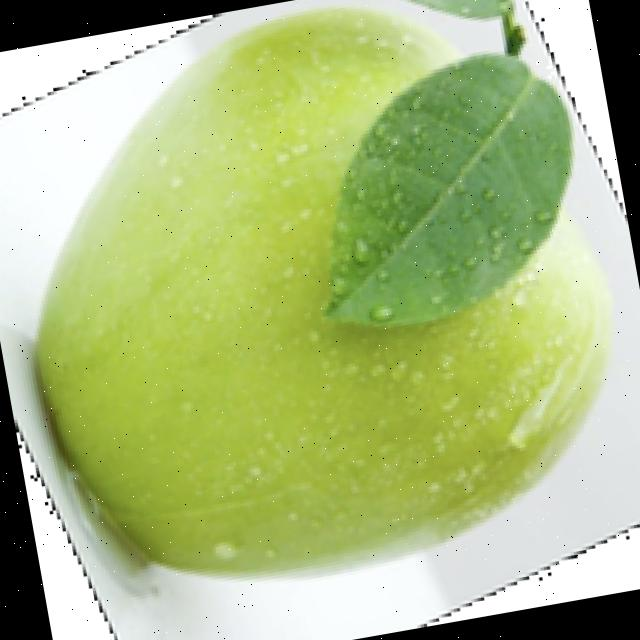apple: (0, 0, 609, 640)
